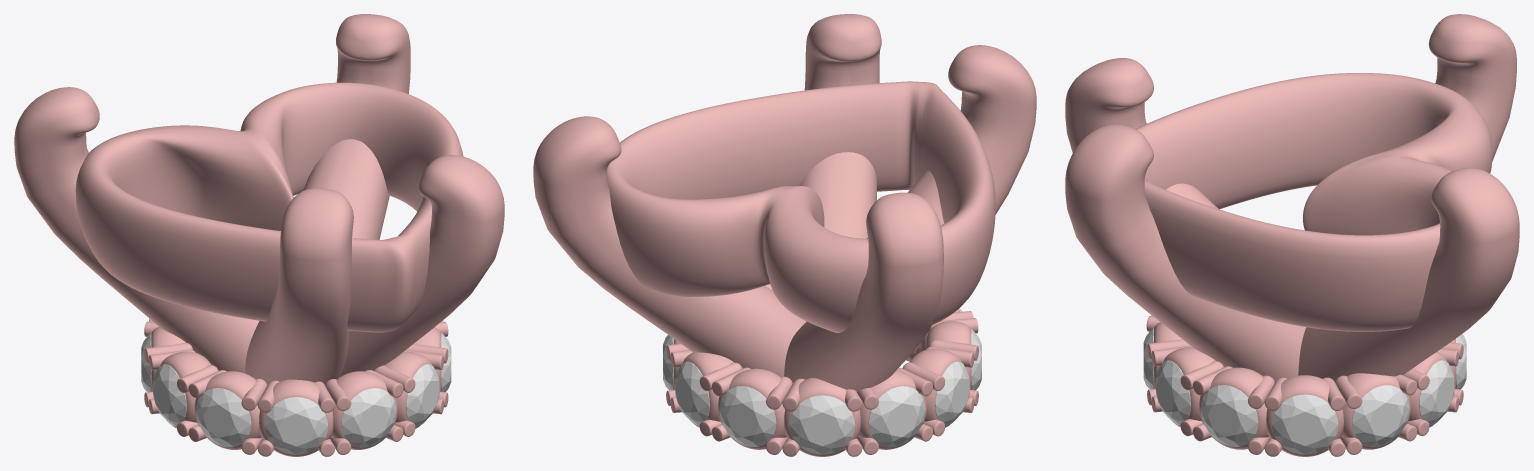
The model's file is HEART.glb.
The picture shows the model from 3 angles, left to right: view 1: azimuth 30°, elevation 25°; view 2: azimuth 150°, elevation 25°; view 3: azimuth 270°, elevation 25°; orthographic projection. The views are drawn at different scales.
Visible parts, largest first — view 1: heart.002, hidden halo.004, hidden halo - diamonds.004; view 2: heart.002, hidden halo.004, hidden halo - diamonds.004; view 3: heart.002, hidden halo.004, hidden halo - diamonds.004.
Part boxes in pixels (x1,y1,x2,y2): heart.002: (14, 14, 504, 384); hidden halo.004: (144, 319, 448, 456); hidden halo - diamonds.004: (141, 332, 451, 454); heart.002: (533, 14, 1036, 391); hidden halo.004: (666, 284, 978, 456); hidden halo - diamonds.004: (663, 308, 981, 454); heart.002: (1065, 14, 1519, 381); hidden halo.004: (1146, 315, 1463, 456); hidden halo - diamonds.004: (1143, 327, 1466, 454).
Bounding box in the file's own units: 5.48 × 4.3 × 5.28.
